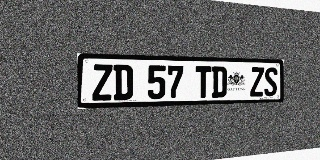5: (148, 65, 166, 99)
7: (166, 65, 183, 99)
D: (113, 64, 133, 100), (212, 66, 227, 98)
S: (264, 67, 277, 96)
T: (195, 66, 211, 98)
Z: (92, 64, 113, 101), (250, 67, 264, 97)
